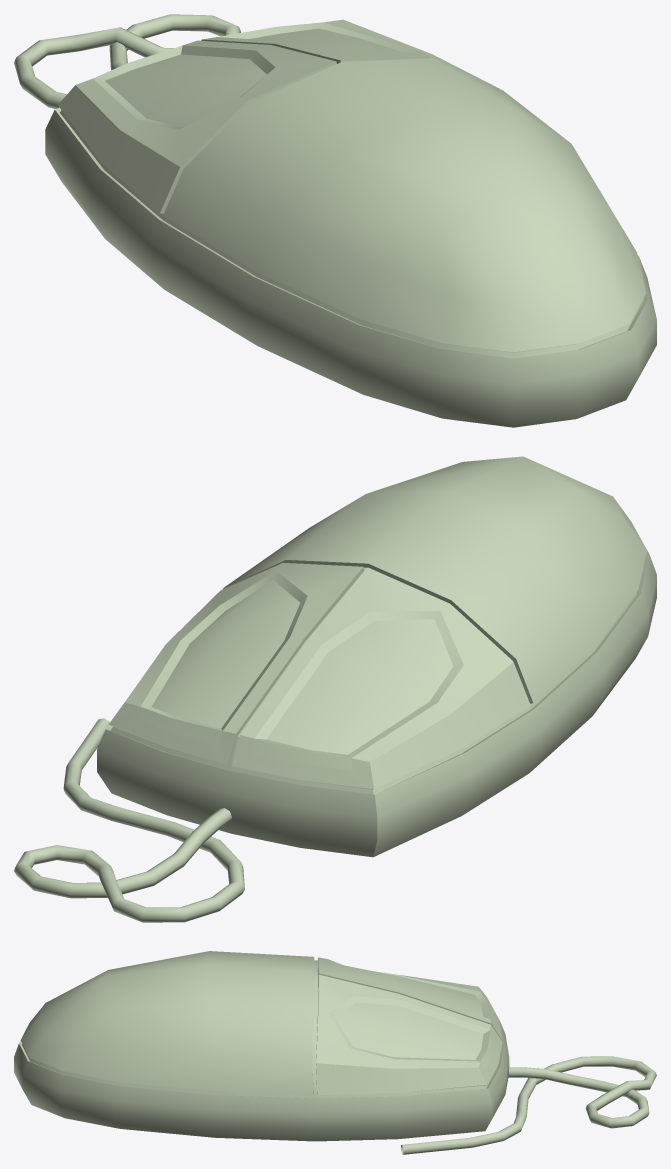
File: mouse.gltf
3 renders of one model, top to bottom at view 1: azimuth 30°, elevation 25°; view 2: azimuth 150°, elevation 25°; view 3: azimuth 270°, elevation 25°, orthographic. The views are drawn at different scales.
Parts seen in each view (by area): view 1: Mesh_11, Mesh_19; view 2: Mesh_11, Mesh_19; view 3: Mesh_11, Mesh_19.
Boxes of the visible parts, x1,y1,x2,y2 form: Mesh_11: [45, 19, 656, 427]; Mesh_19: [14, 14, 240, 108]; Mesh_11: [97, 456, 656, 857]; Mesh_19: [14, 718, 244, 922]; Mesh_11: [14, 951, 509, 1141]; Mesh_19: [401, 1056, 656, 1154].
Bounding box in the file's own units: 4.16 × 1.91 × 9.01.
